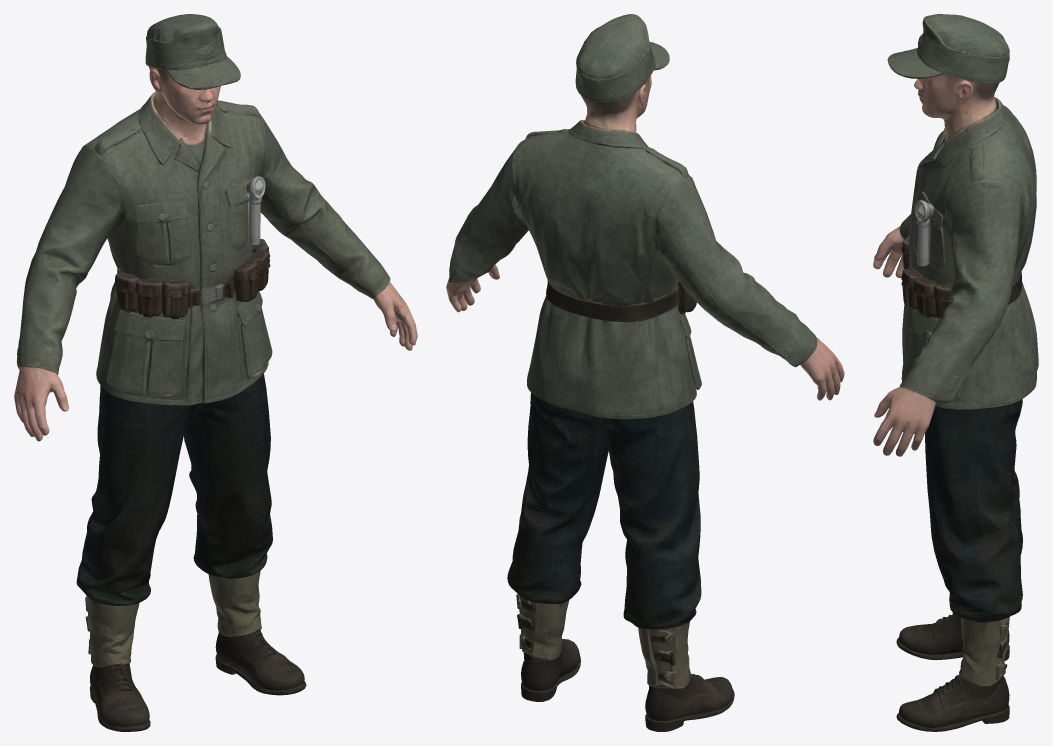
The model's file is patrol_soldier.glb.
3 renders of one model, left to right at view 1: azimuth 30°, elevation 25°; view 2: azimuth 150°, elevation 25°; view 3: azimuth 270°, elevation 25°, orthographic.
Bounding box in the file's own units: 1.12 × 1.9 × 0.4258.
Materials: 1 (1 with a texture image).
